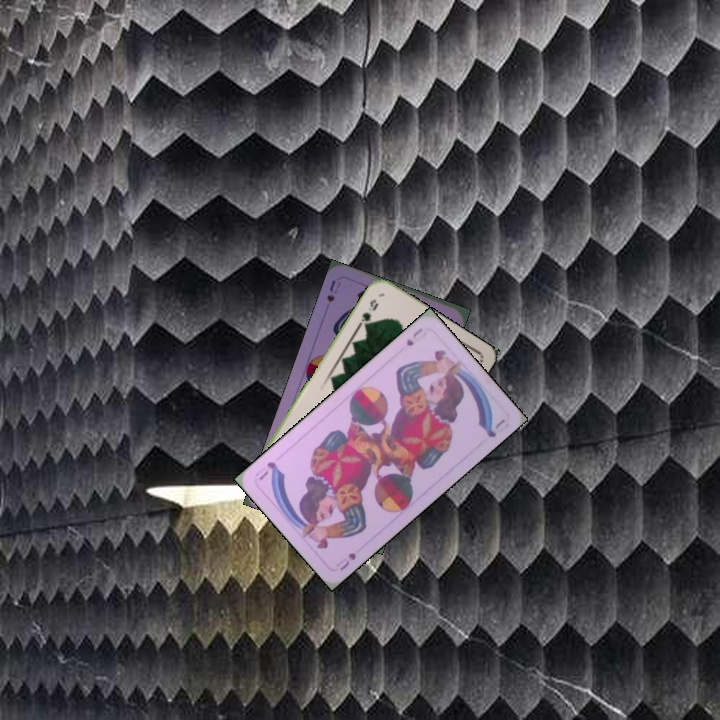G9: (355, 295, 381, 331)
SU: (332, 548, 358, 573), (323, 276, 343, 305), (402, 324, 425, 349)
